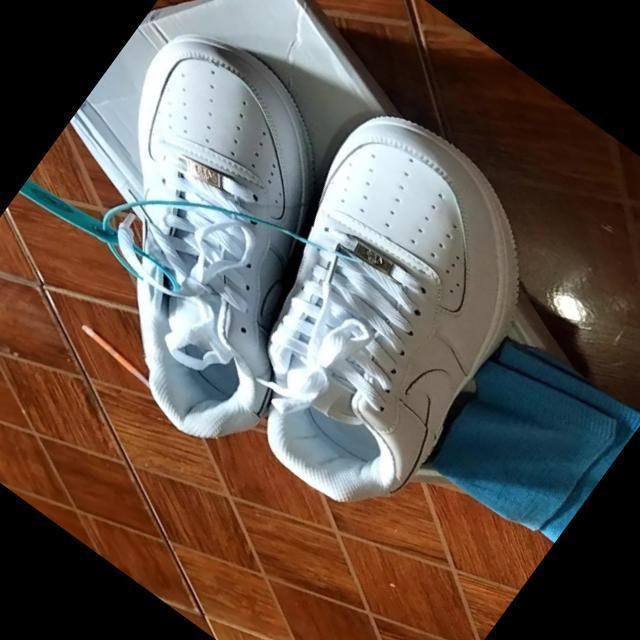nike fake air force: (166, 91, 616, 557), (0, 6, 430, 467)
